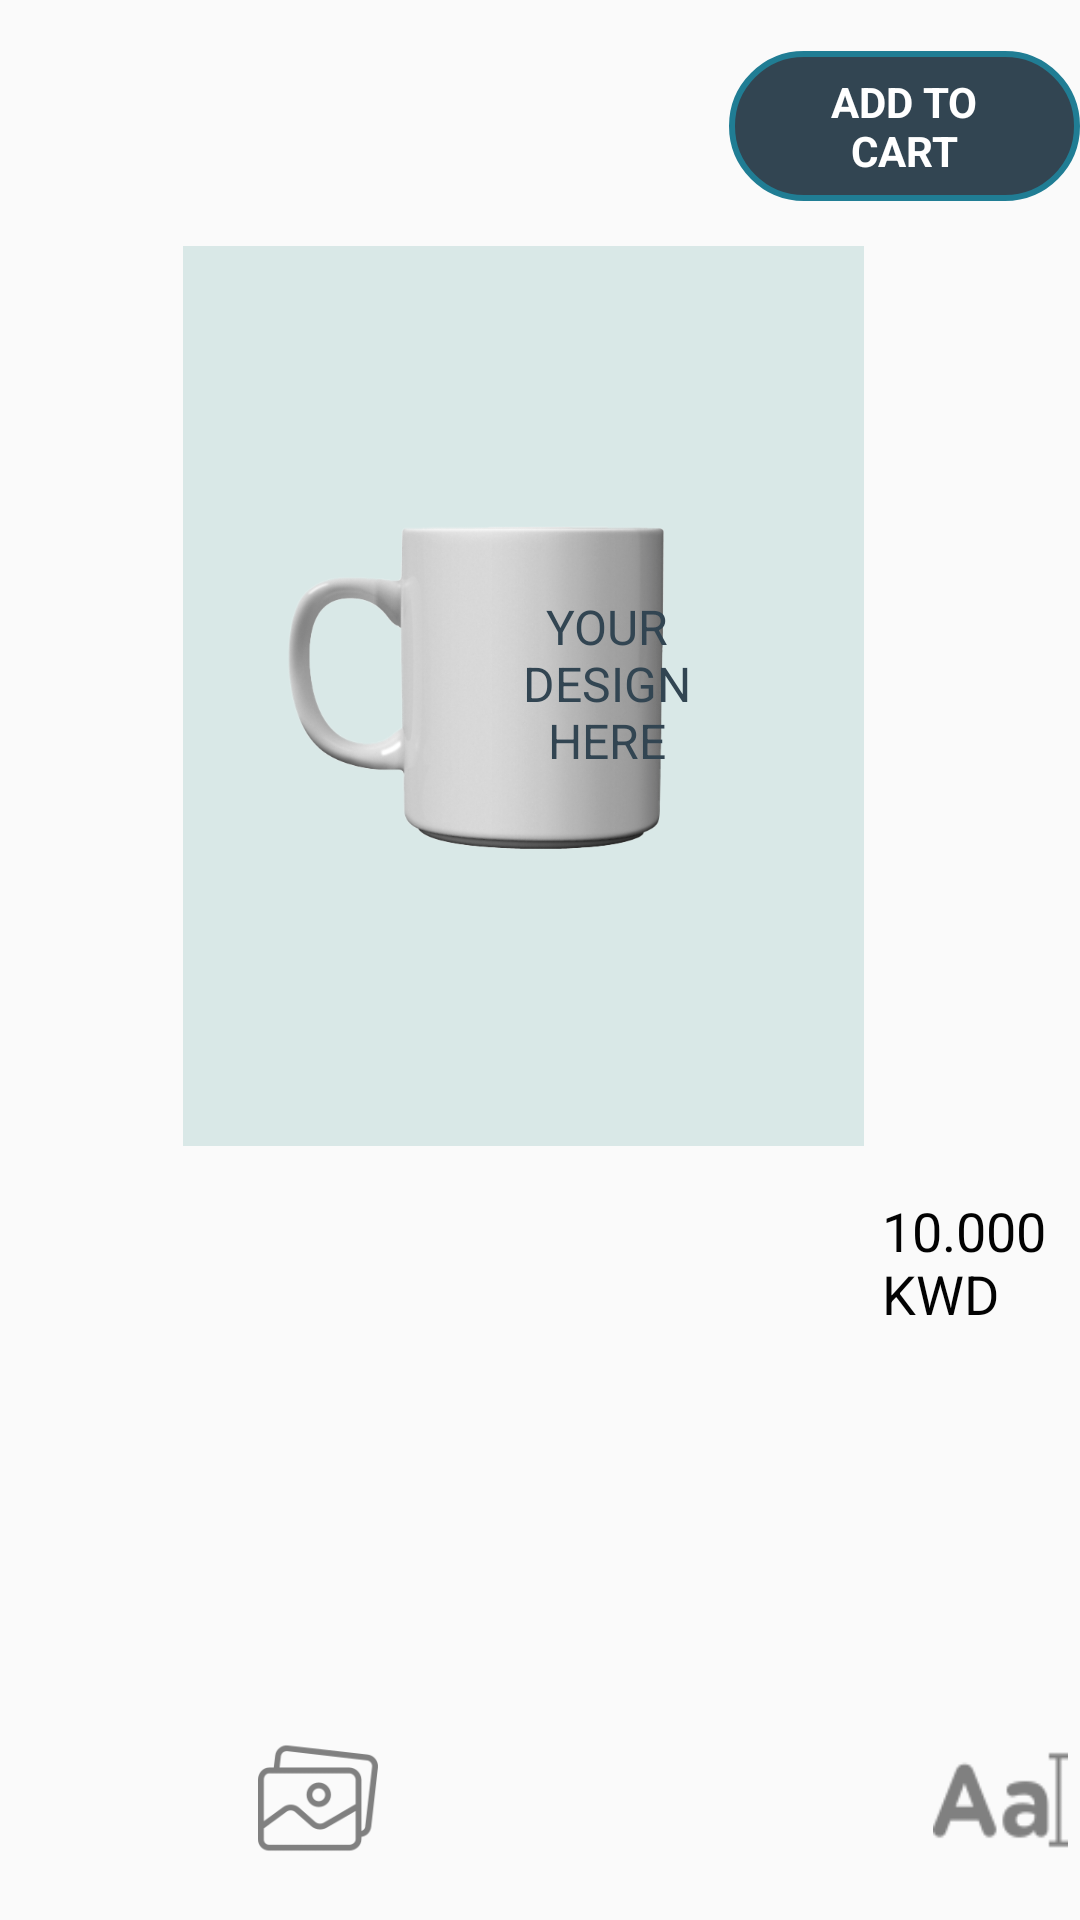

Icon bounding boxes for this 1080*1920 phone screenshot, format (x1, y1, x2, y2):
font: (933, 1753, 1068, 1847)
gallery: (258, 1745, 378, 1851)
